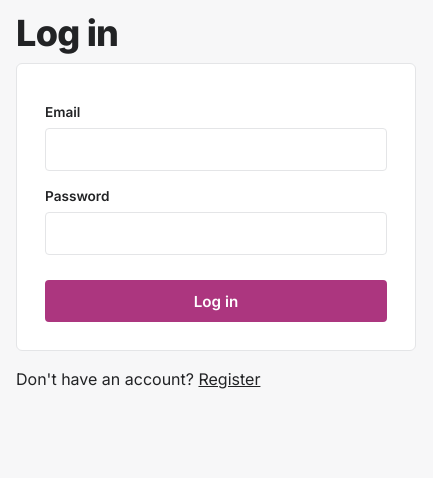
Test case: LoginPage › shows a clear error message on invalid credentials, without exposing raw server details
In the field labelled "Email": (216, 149) 45,128 -> 387,171, type "wrong@test.com"
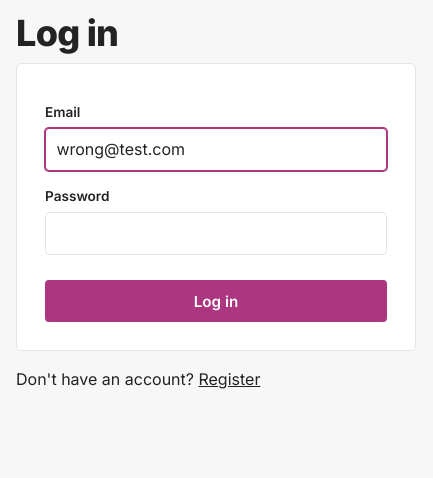
In the password field labelled "Password": (216, 233) 45,212 -> 387,254, type "wrongpass"
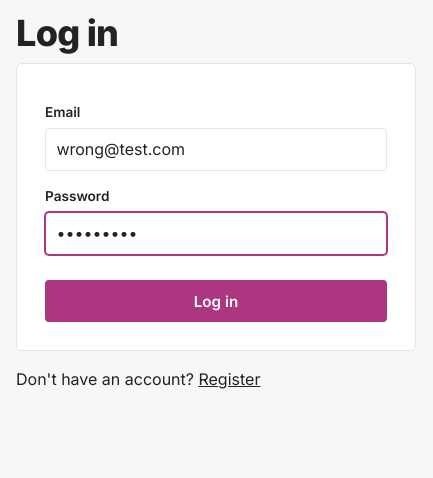
Click the button "Log in": click(216, 301) 45,280 -> 387,322
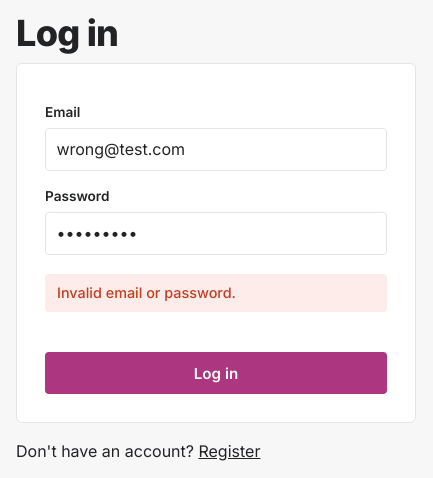
Expected: the message reads "Invalid email or password.", 57,284 -> 236,302
